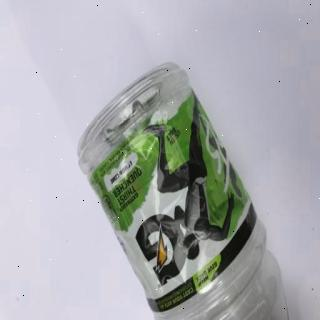Plastic-bottle: (77, 60, 295, 320)
